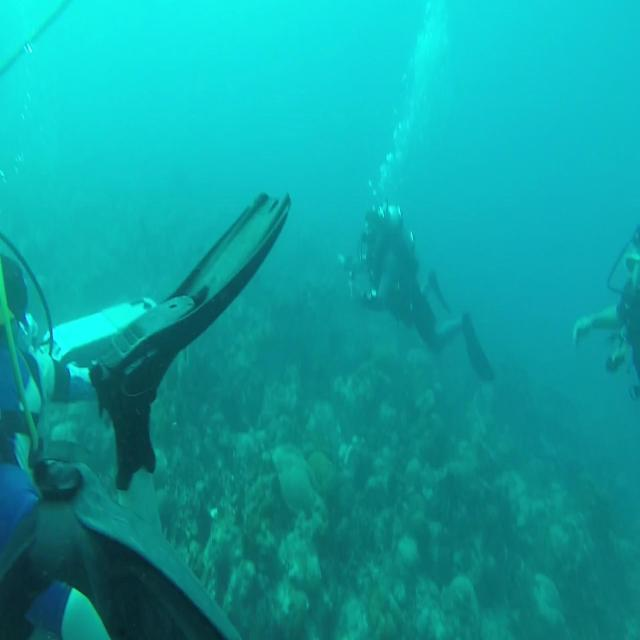human: (1, 188, 291, 638), (339, 198, 495, 384), (572, 222, 639, 398)
